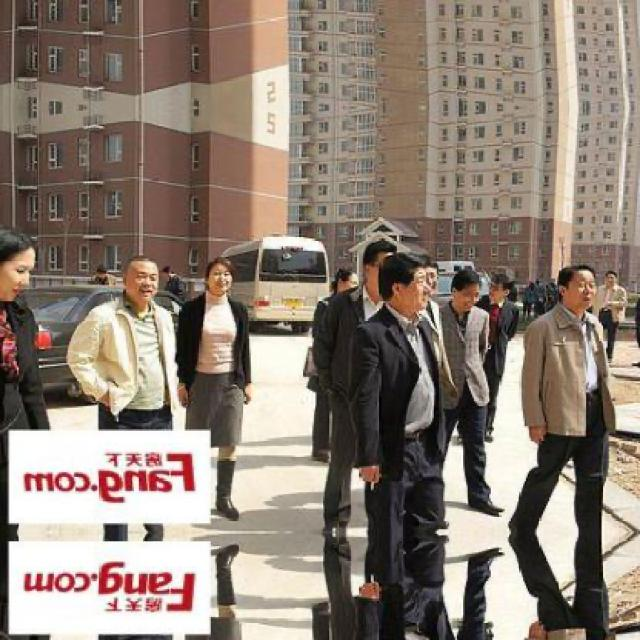sin casco: (377, 258, 448, 330), (106, 256, 174, 317), (0, 231, 42, 321), (550, 258, 600, 326), (193, 252, 237, 310)
